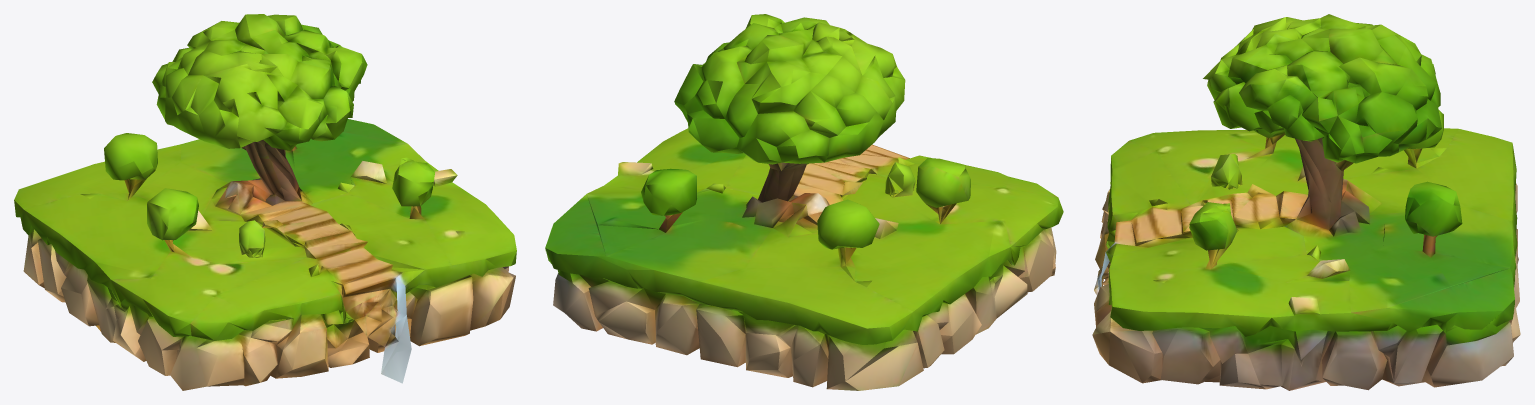
File: islandB.glb
The picture shows the model from 3 angles, left to right: view 1: azimuth 30°, elevation 25°; view 2: azimuth 150°, elevation 25°; view 3: azimuth 270°, elevation 25°; orthographic projection. The views are drawn at different scales.
Parts seen in each view (by area): view 1: model; view 2: model; view 3: model.
Boxes of the visible parts, x1=… form: model: x1=14, y1=14, x2=516, y2=390; model: x1=545, y1=14, x2=1063, y2=390; model: x1=1092, y1=14, x2=1520, y2=390.
Size of the model in its own units: 1.92 by 1.44 by 1.82.
Materials: 1 (1 with a texture image).
